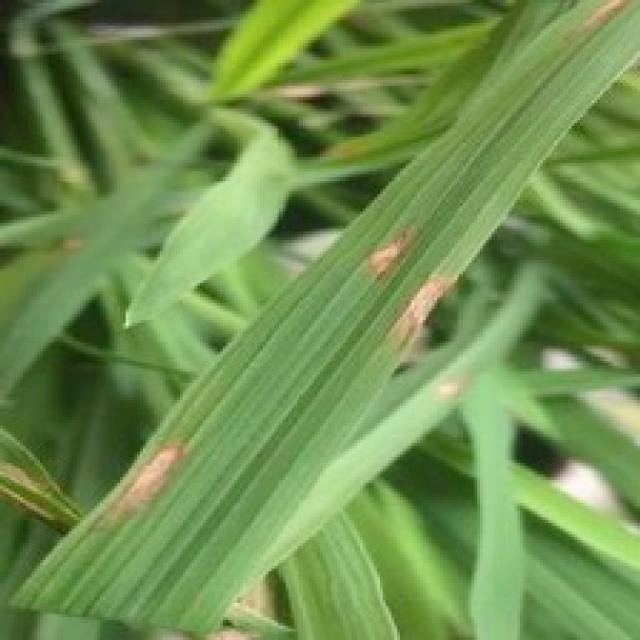Unhealthy: (95, 439, 189, 529), (393, 271, 462, 346), (0, 462, 82, 522), (366, 226, 416, 279), (0, 483, 53, 518), (577, 0, 628, 34), (440, 378, 465, 397)
